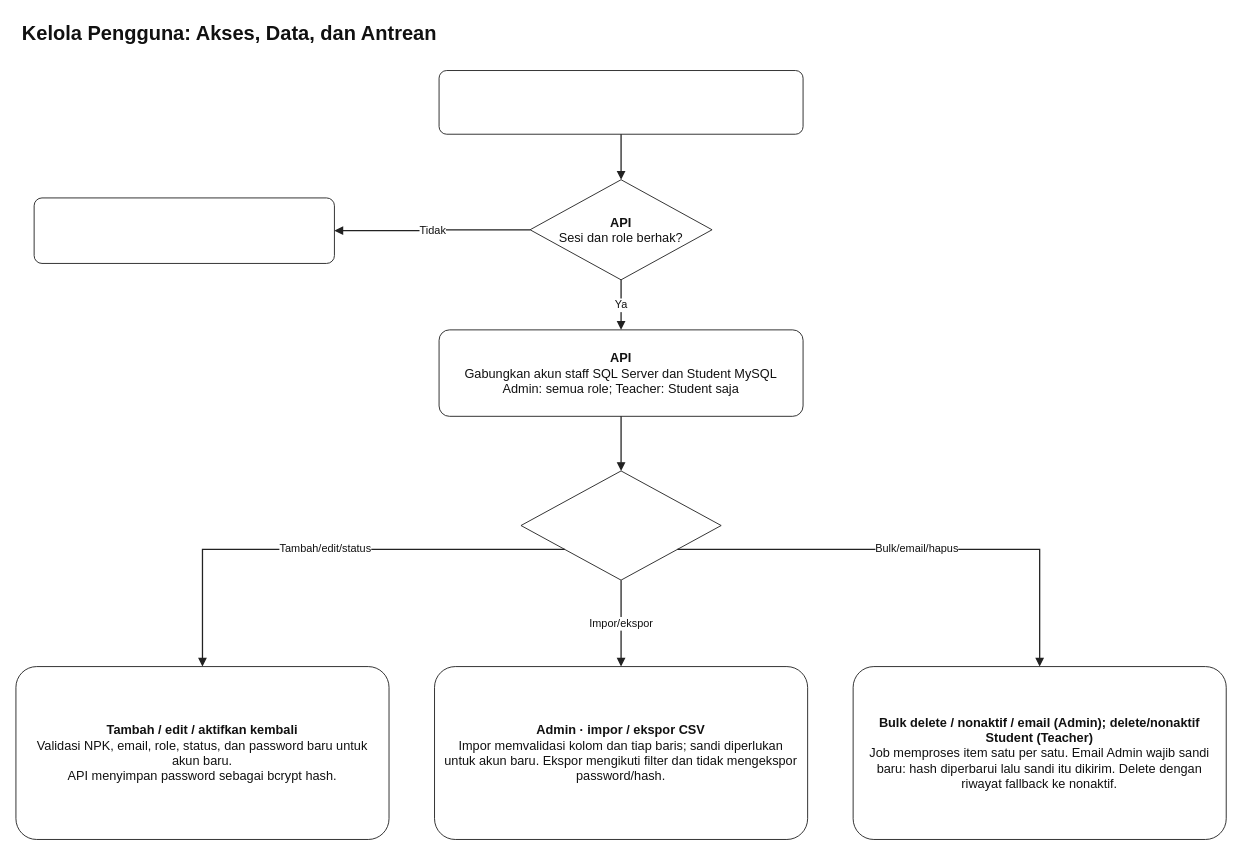
Image size: 1242x855. Some labels were removed from this diagram. Each missing label, with the box of its shape:
Admin / Teacher Buka Kelola Pengguna: (438, 70, 803, 134)
API 403 atau target di luar scope role: (33, 197, 334, 263)
Pengguna Pilih aksi: (520, 470, 721, 580)
